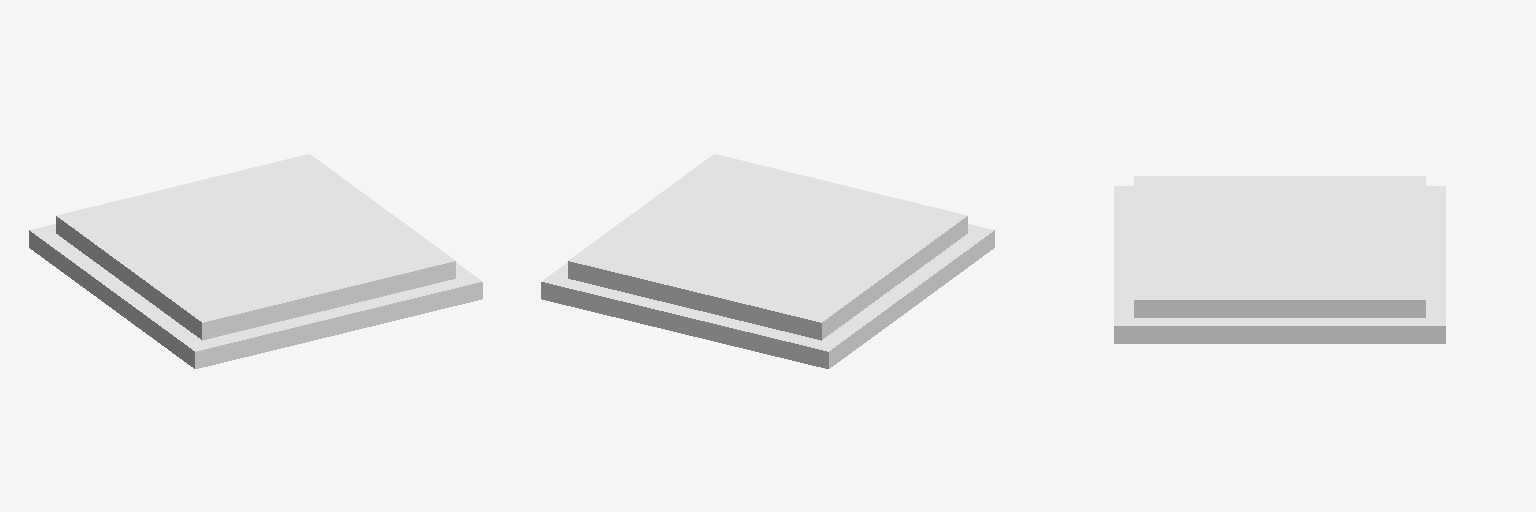
File: button_up_sticky.obj
3 renders of one model, left to right at view 1: azimuth 30°, elevation 25°; view 2: azimuth 150°, elevation 25°; view 3: azimuth 270°, elevation 25°, orthographic.
Visible parts, largest first — view 1: object 1; view 2: object 1; view 3: object 1.
Boxes of the visible parts, <box> form: object 1: <box>29,154,482,368</box>; object 1: <box>541,154,994,368</box>; object 1: <box>1114,176,1445,343</box>.
Bounding box in the file's own units: 1.7 × 0.2 × 1.7.